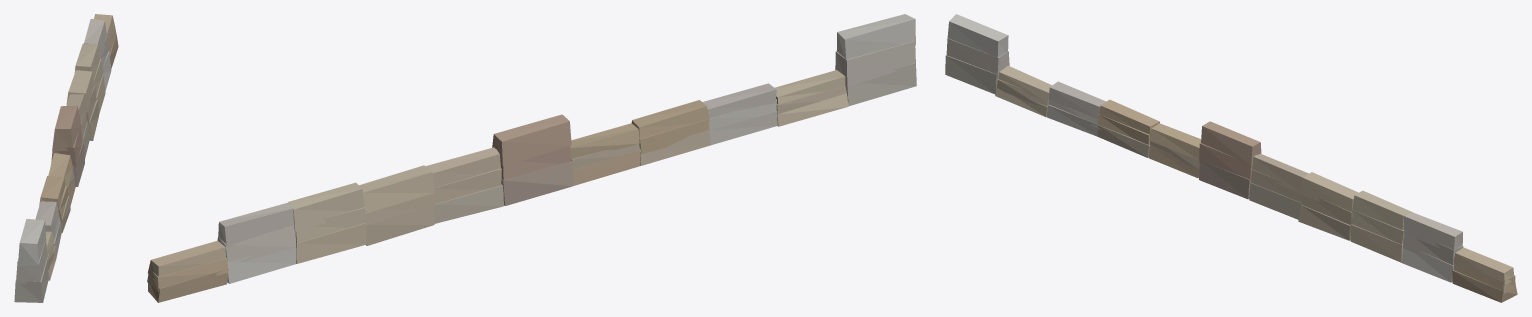
File: farm_-17_-22_mid.glb
3 renders of one model, left to right at view 1: azimuth 30°, elevation 25°; view 2: azimuth 150°, elevation 25°; view 3: azimuth 270°, elevation 25°, orthographic. The views are drawn at different scales.
Parts seen in each view (by area): view 1: geometry_0; view 2: geometry_0; view 3: geometry_0.
Boxes of the visible parts, x1,y1,x2,y2 form: geometry_0: [14, 14, 118, 302]; geometry_0: [147, 14, 916, 302]; geometry_0: [945, 14, 1517, 302].
Size of the model in its own units: 10.71 by 3.18 by 14.61.
